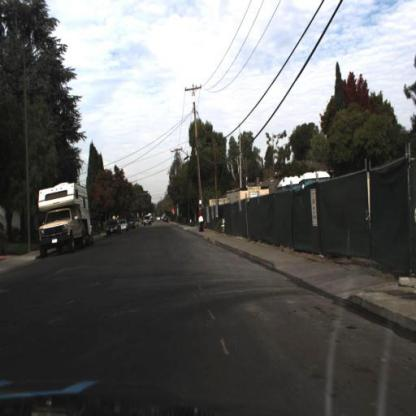car: (101, 214, 122, 239)
pedestrian: (198, 207, 206, 234)
truck: (39, 182, 95, 250)
